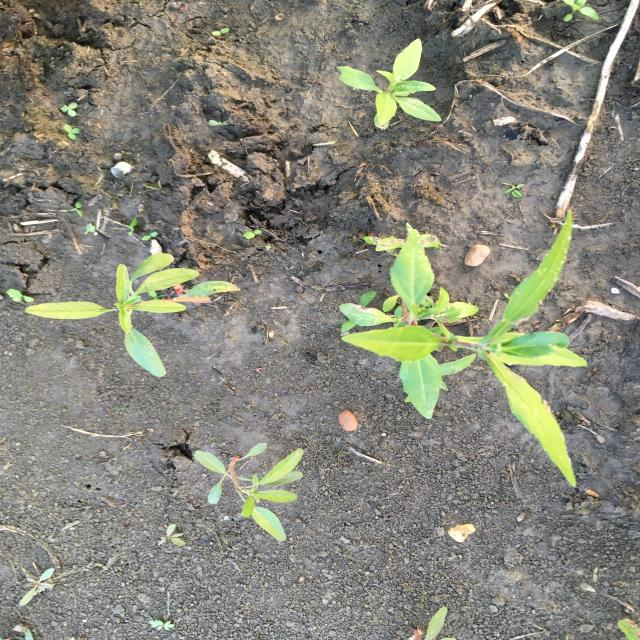Eclipta: (337, 207, 591, 490), (336, 36, 443, 132)
Waterhemp: (23, 253, 243, 379), (192, 442, 306, 544)
